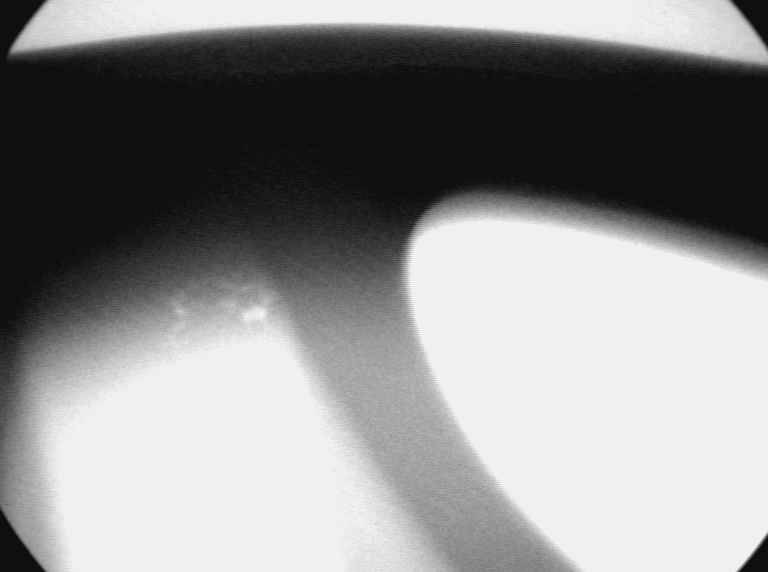defect: (161, 267, 283, 350)
